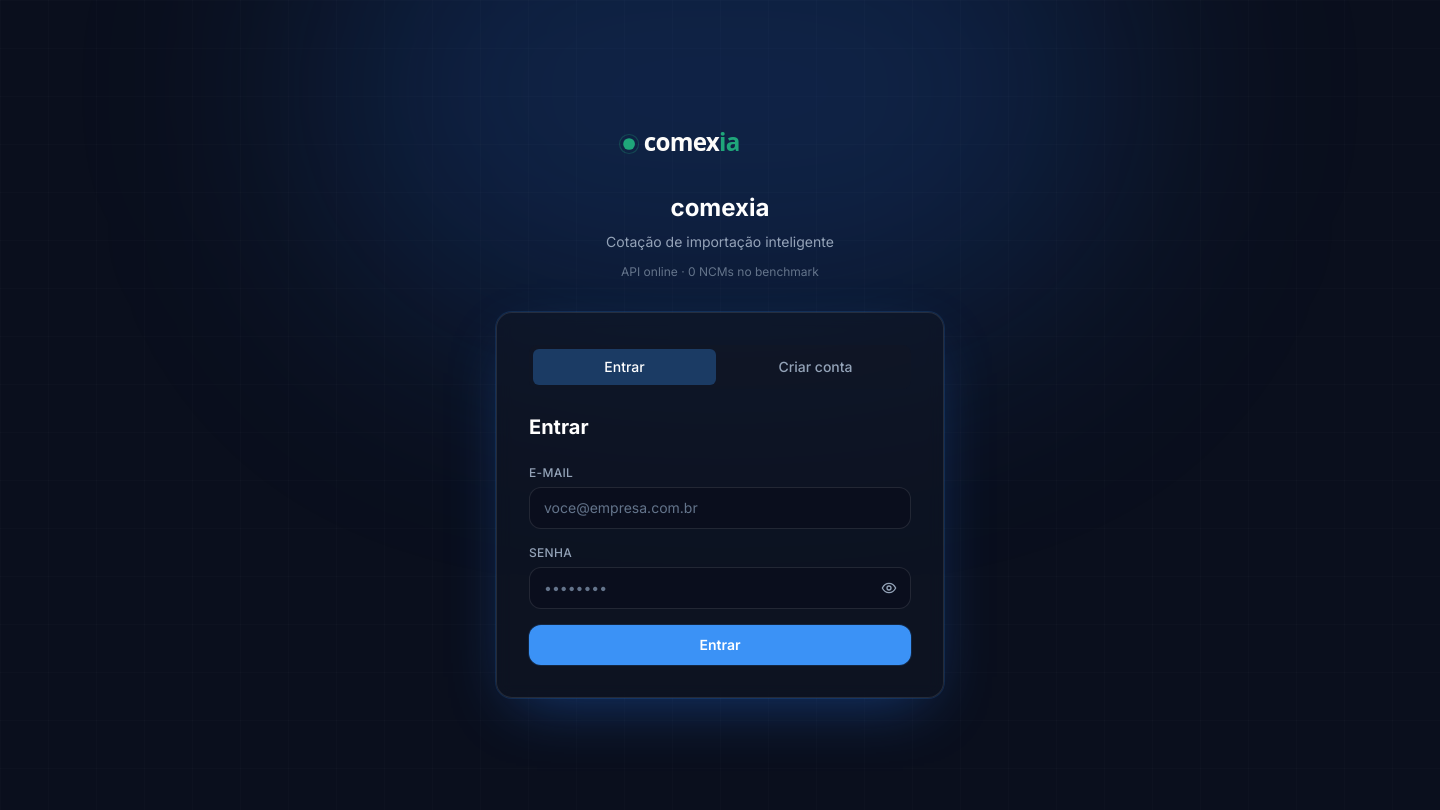
Test case: LoginScreen › renderiza em card a mensagem de bloqueio retornada pela API
This screenshot has width=1440, height=810.
Type "paulo.mesquita@innove888.com.br" into the field labelled "E-mail" at (720, 508), box [529, 487, 911, 529]
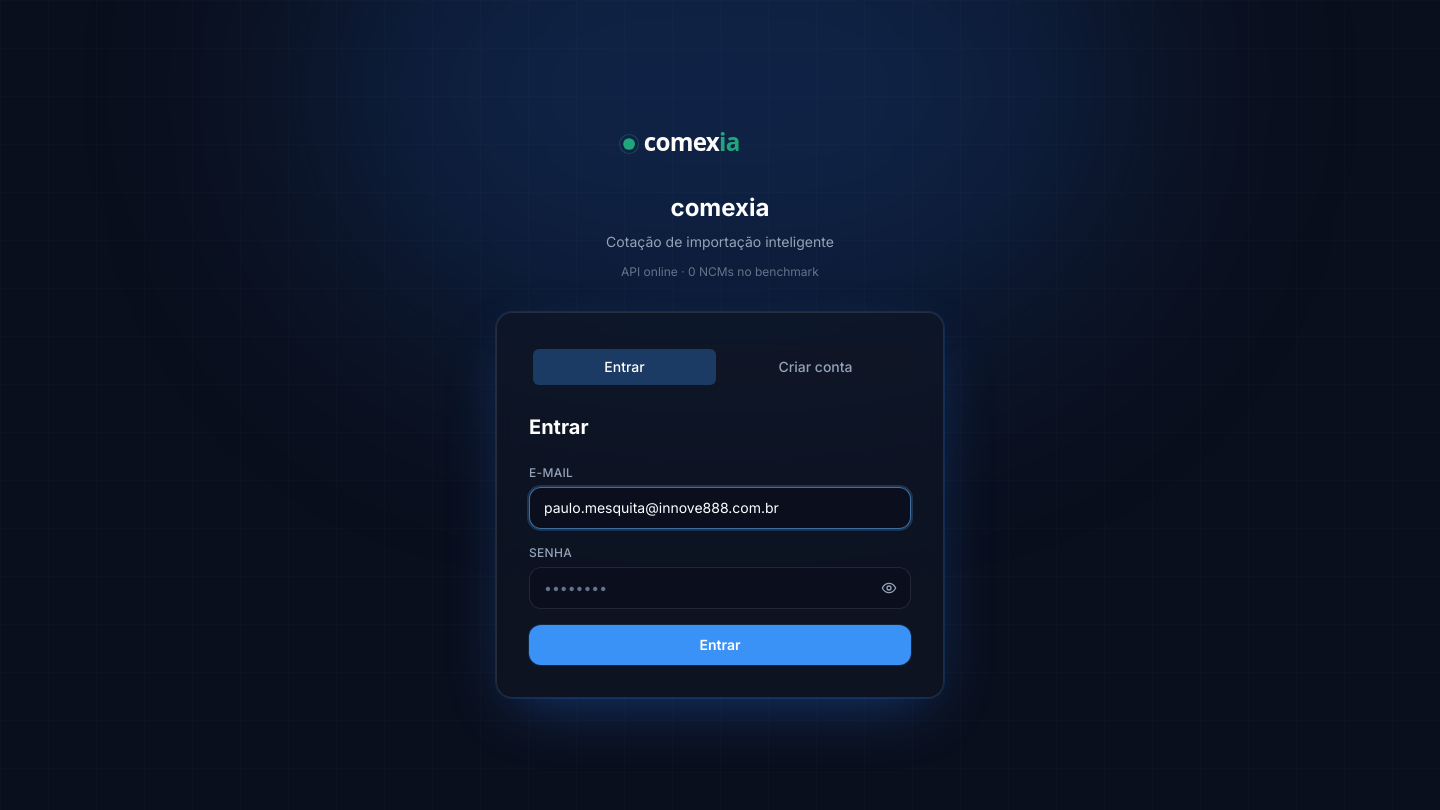
Type "senha-forte" into the password field labelled "Senha" at (720, 588), box [529, 567, 911, 609]
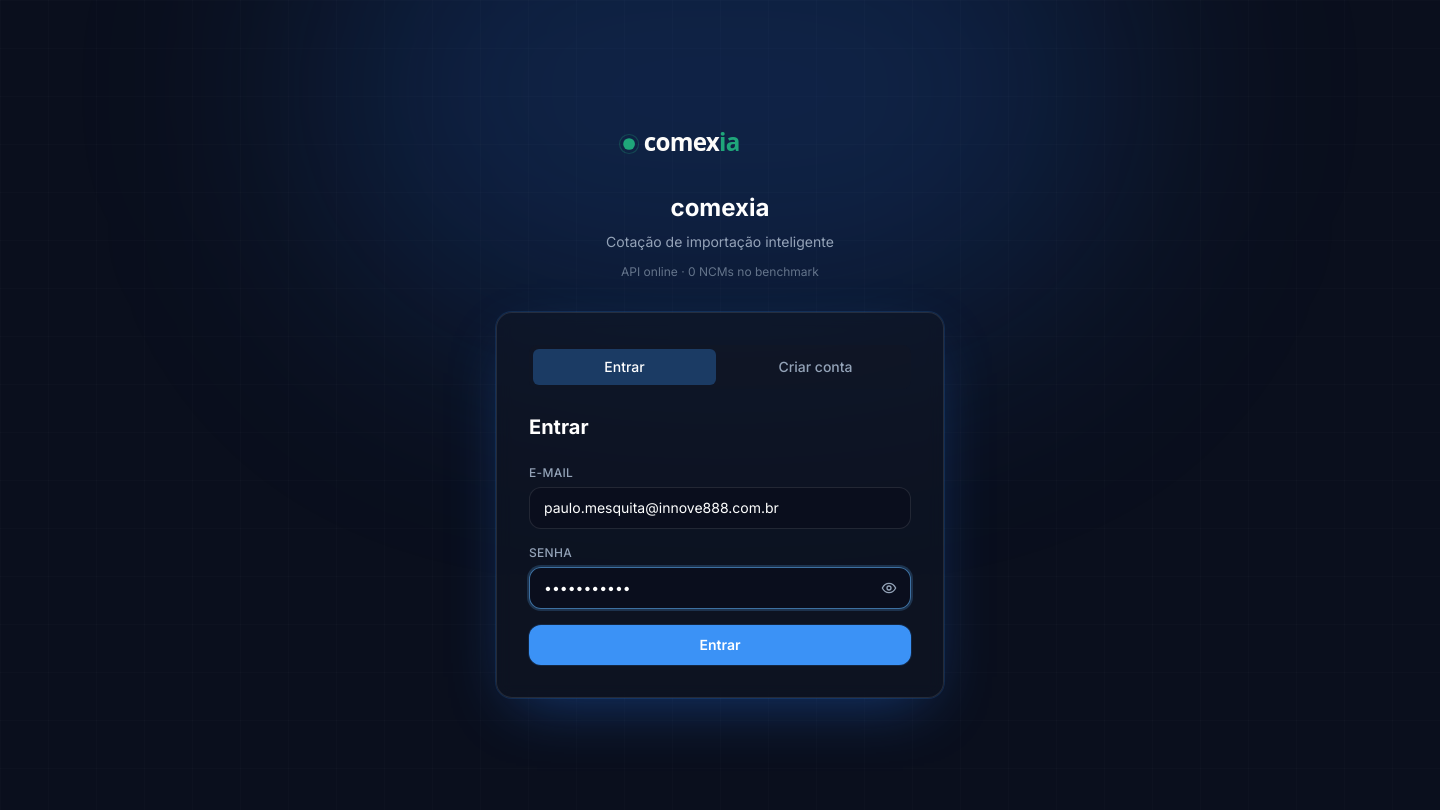
Click the button "Entrar" below "Senha" at (720, 645), box [529, 625, 911, 665]
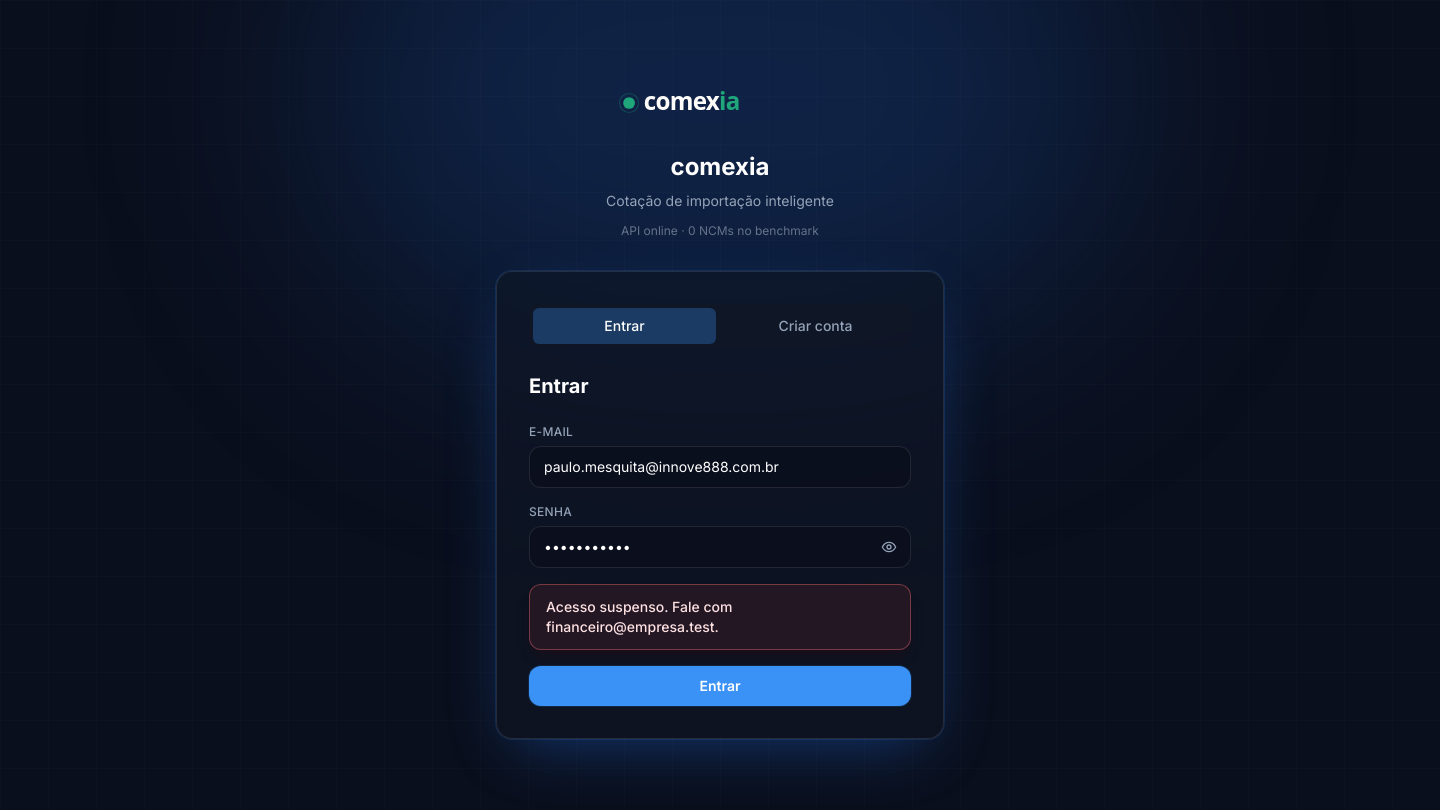
Expected: the message reads "Acesso suspenso. Fale com financeiro@empresa.test.", [546, 598, 732, 635]
